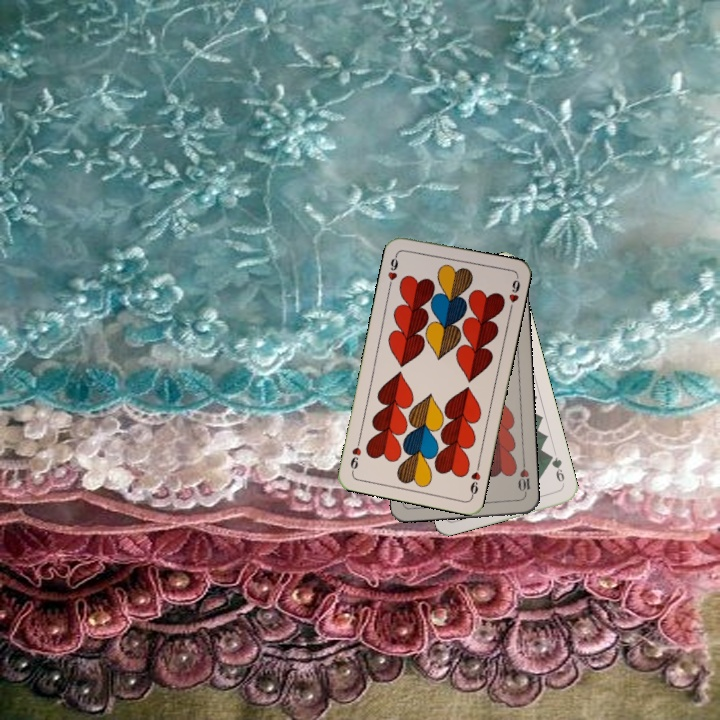G9: (545, 450, 567, 489)
H10: (514, 458, 533, 499)
H9: (384, 249, 401, 290), (466, 459, 483, 499)
